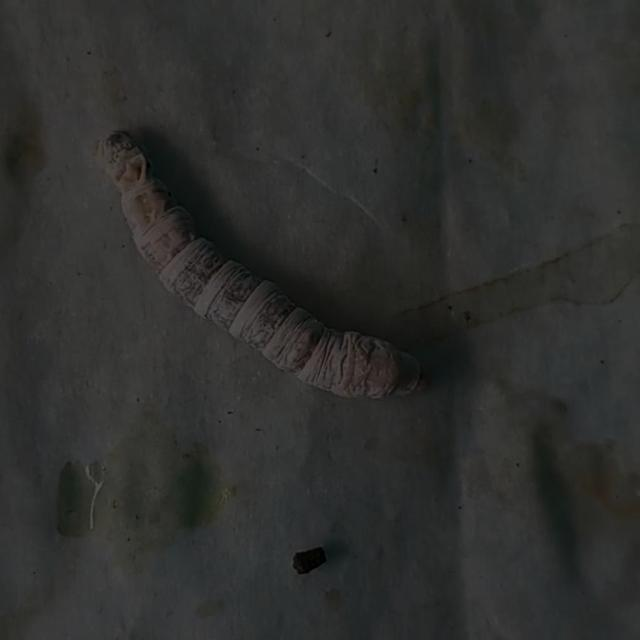Grasserie: (95, 121, 435, 411)
